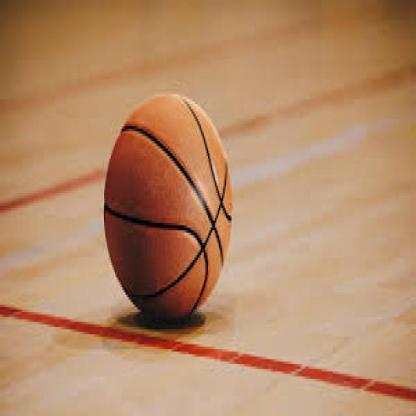basketball: (106, 91, 232, 322)
